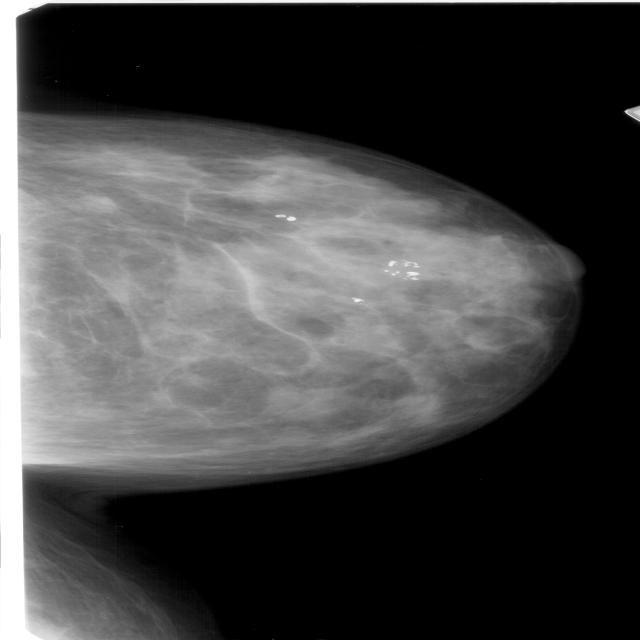cancer: (77, 136, 515, 379)
